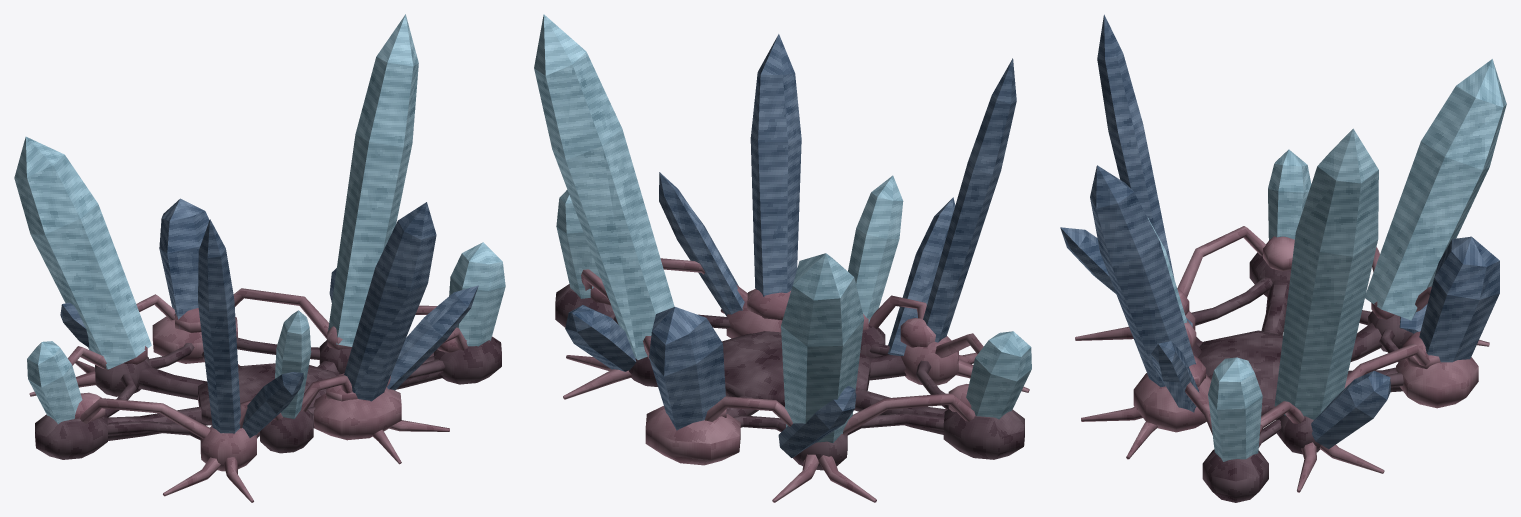
The model's file is colony_ground.glb.
3 renders of one model, left to right at view 1: azimuth 30°, elevation 25°; view 2: azimuth 150°, elevation 25°; view 3: azimuth 270°, elevation 25°, orthographic. The views are drawn at different scales.
Parts seen in each view (by area): view 1: colony_ground; view 2: colony_ground; view 3: colony_ground.
Part boxes in pixels (x1=…): colony_ground: x1=14, y1=14, x2=505, y2=502; colony_ground: x1=534, y1=14, x2=1031, y2=502; colony_ground: x1=1060, y1=14, x2=1506, y2=502.
Bounding box in the file's own units: 1.26 × 0.8939 × 0.9876.
Materials: 5 (5 with a texture image).
